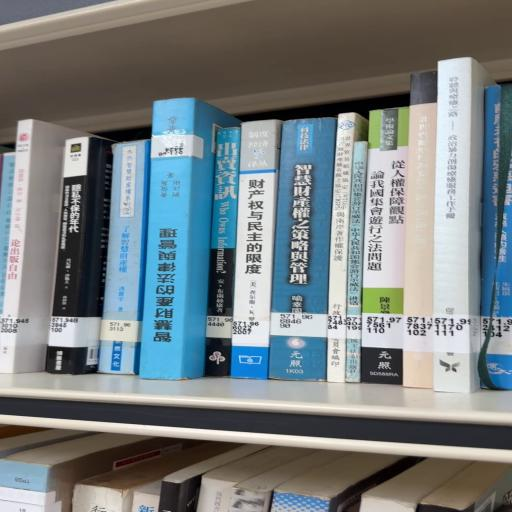reverse: (140, 99, 242, 380)
